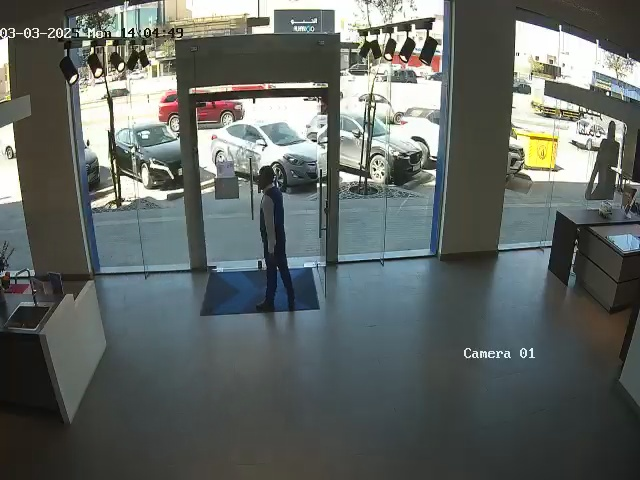employee: (255, 165, 296, 313)
